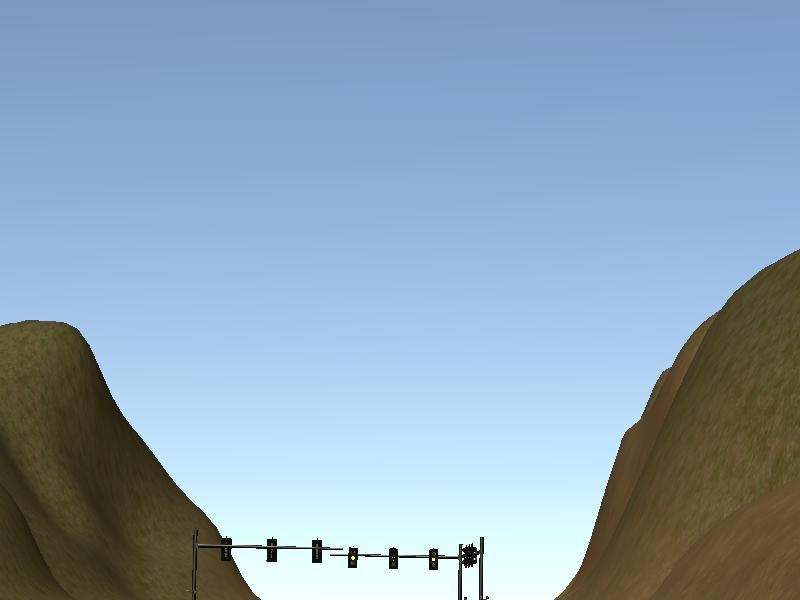traffic_light_yellow: (338, 546, 458, 572)
